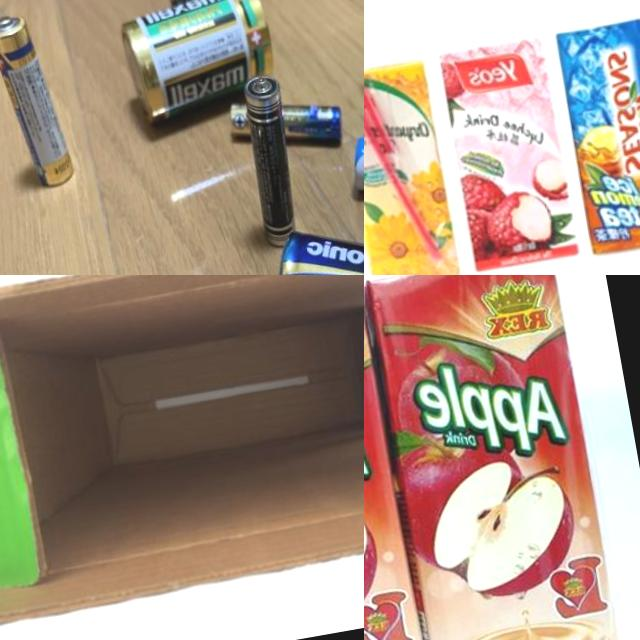bateria: (113, 0, 288, 132), (0, 6, 81, 196), (230, 71, 306, 252), (224, 82, 350, 159), (145, 0, 199, 30)
caixinha: (364, 275, 632, 640), (439, 38, 572, 273), (364, 275, 439, 640), (550, 10, 640, 251), (364, 56, 463, 275)
papelão: (0, 275, 364, 632)
